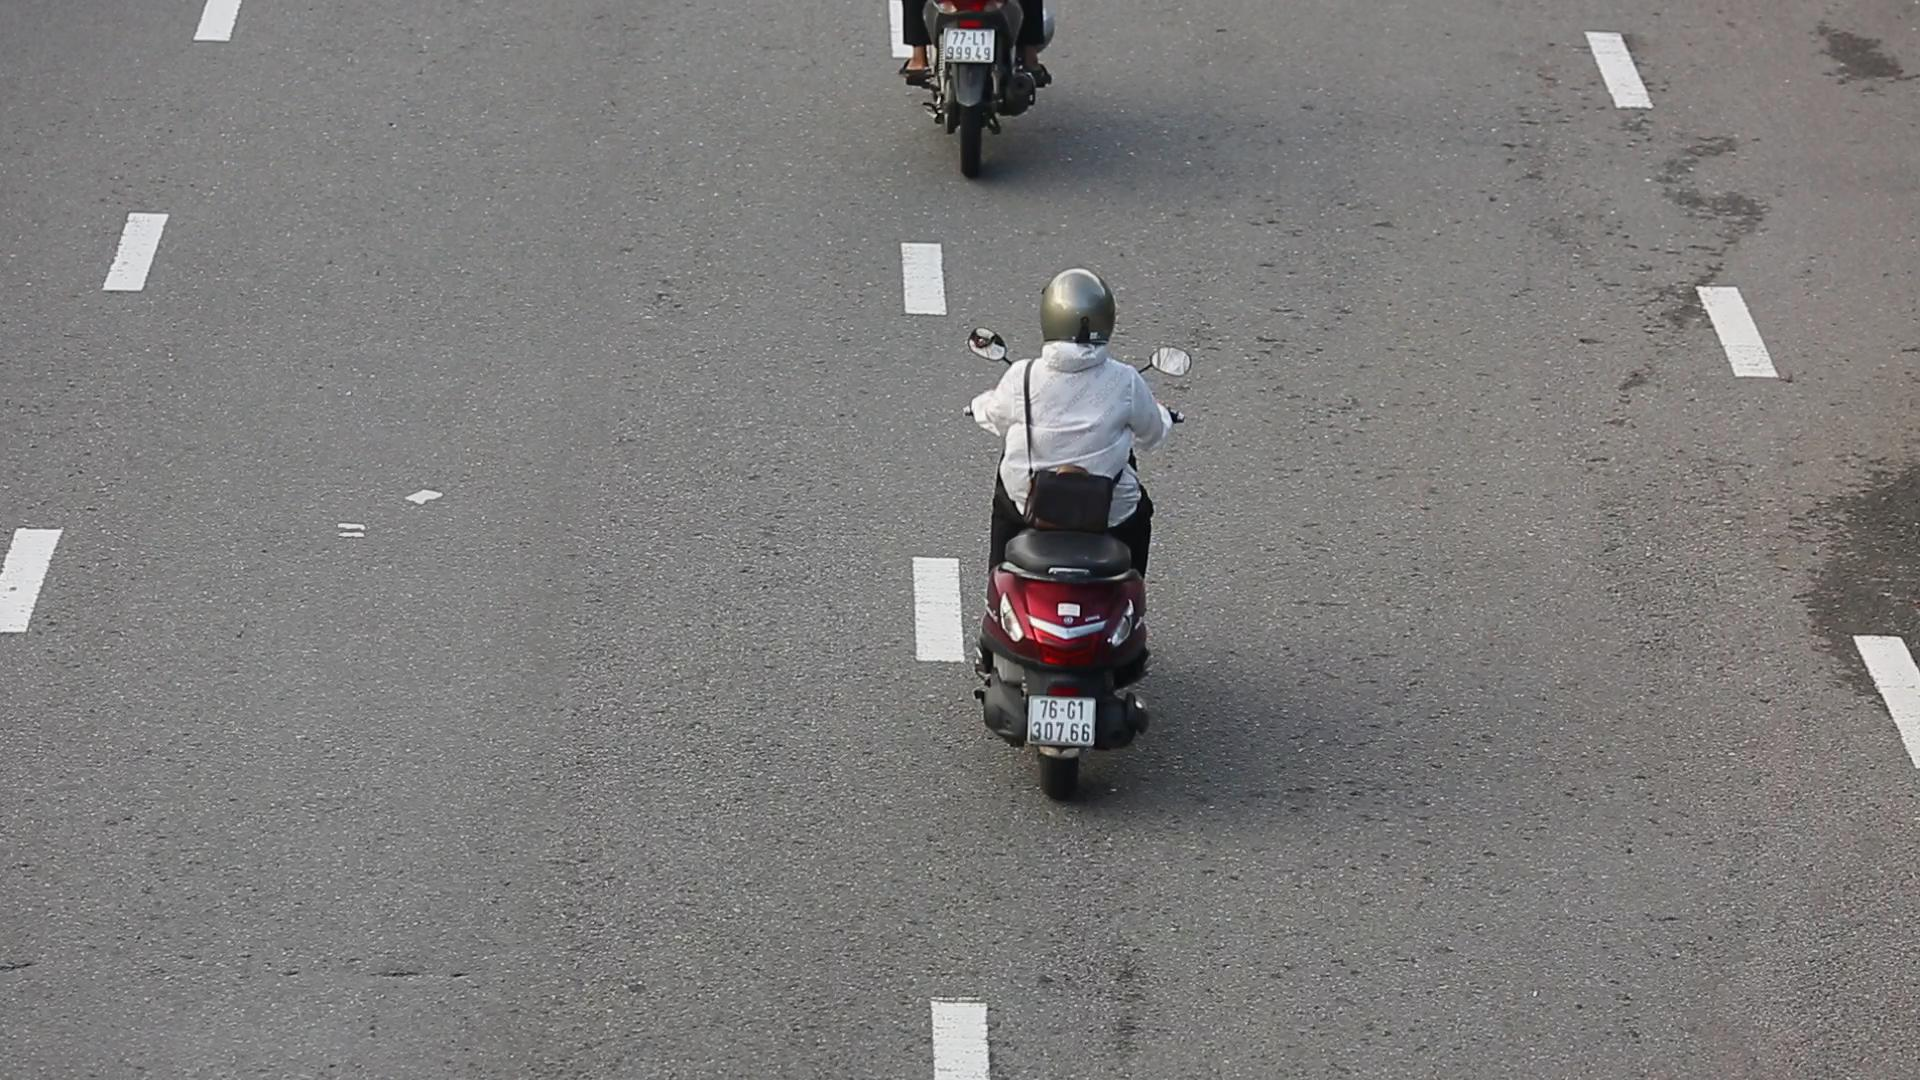motobike: (952, 269, 1199, 818)
